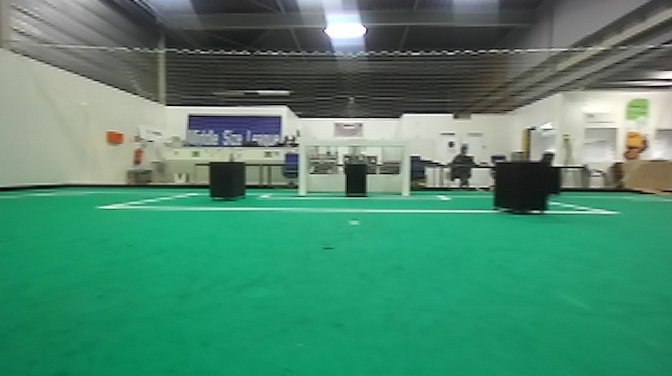goalpost: (398, 132, 416, 194), (295, 134, 311, 198)
